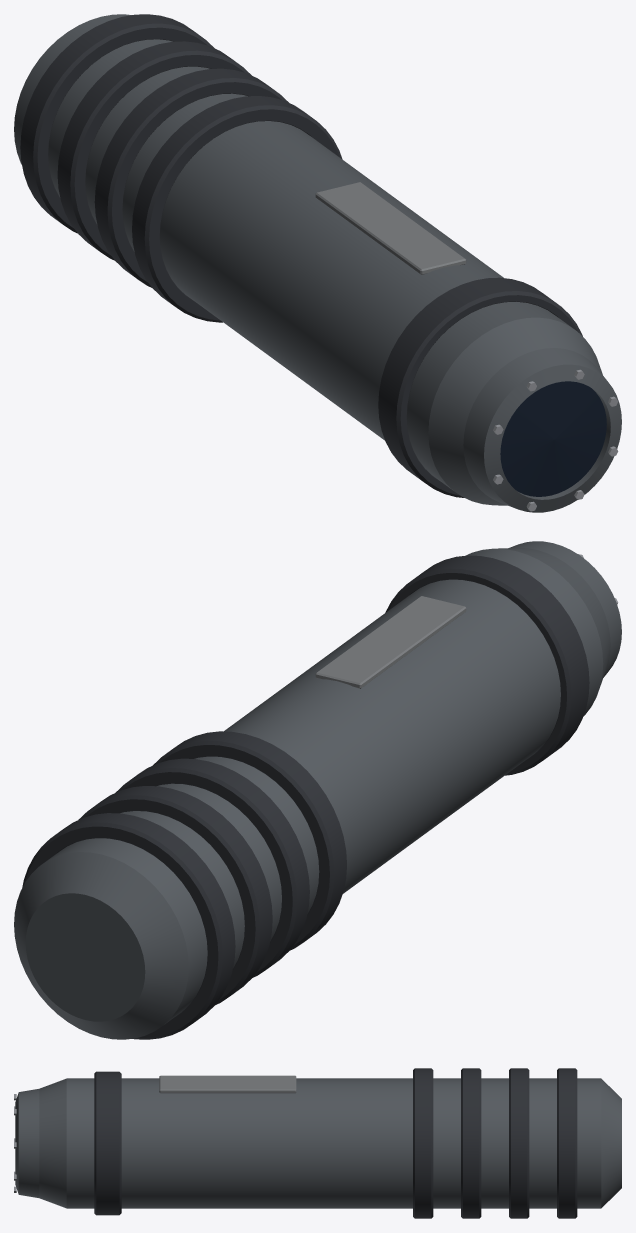
Rendered from pd1_emitter.obj.
3 renders of one model, top to bottom at view 1: azimuth 30°, elevation 25°; view 2: azimuth 150°, elevation 25°; view 3: azimuth 270°, elevation 25°, orthographic. The views are drawn at different scales.
Visible parts, largest first — view 1: pd1_emitter; view 2: pd1_emitter; view 3: pd1_emitter.
Part boxes in pixels (x1,y1,x2,y2): pd1_emitter: [14, 14, 621, 512]; pd1_emitter: [14, 541, 621, 1039]; pd1_emitter: [14, 1068, 621, 1218].
Size of the model in its own units: 0.44 by 0.44 by 1.77.
